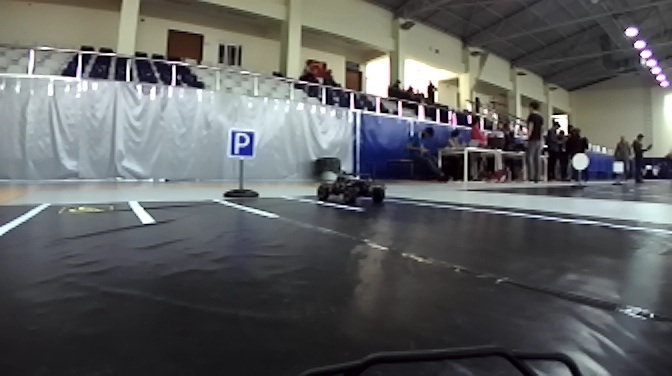park: (227, 125, 258, 160)
